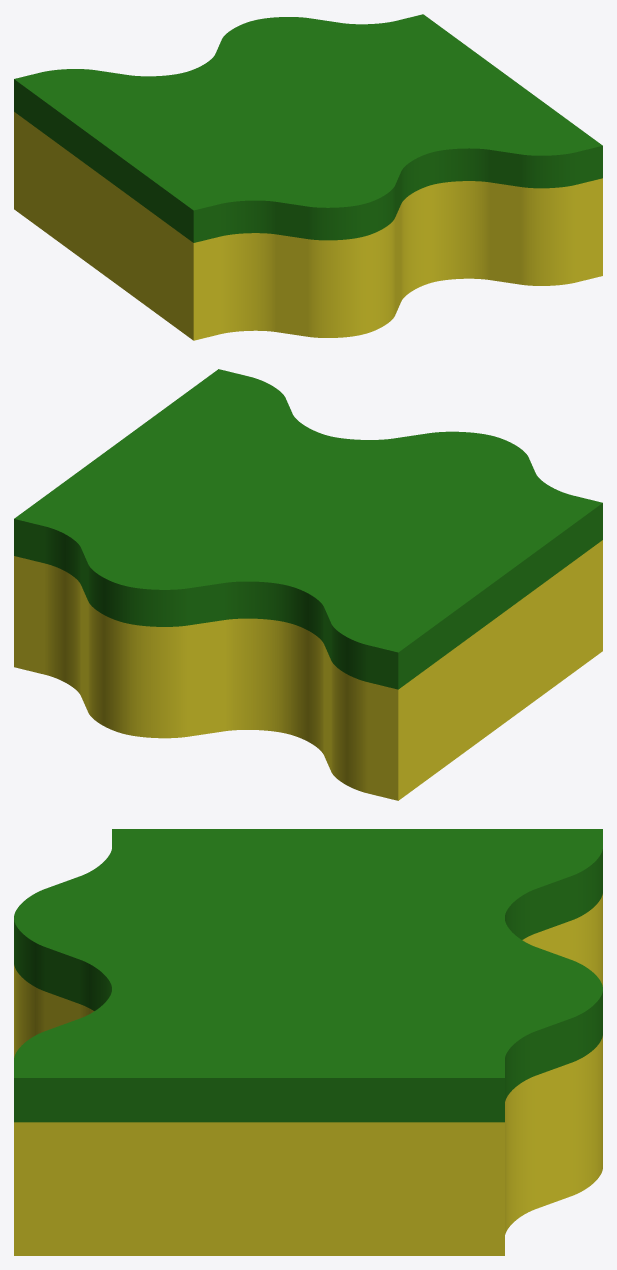
Rendered from Sponge.glb.
The picture shows the model from 3 angles, top to bottom: view 1: azimuth 30°, elevation 25°; view 2: azimuth 150°, elevation 25°; view 3: azimuth 270°, elevation 25°; orthographic projection. The views are drawn at different scales.
Parts seen in each view (by area): view 1: Sponge-convcol; view 2: Sponge-convcol; view 3: Sponge-convcol.
Boxes of the visible parts, left/top/right/bottom form: Sponge-convcol: left=14, top=14, right=602, bottom=340; Sponge-convcol: left=14, top=369, right=602, bottom=800; Sponge-convcol: left=14, top=829, right=602, bottom=1255.
Bounding box in the file's own units: 6 × 2 × 6.
